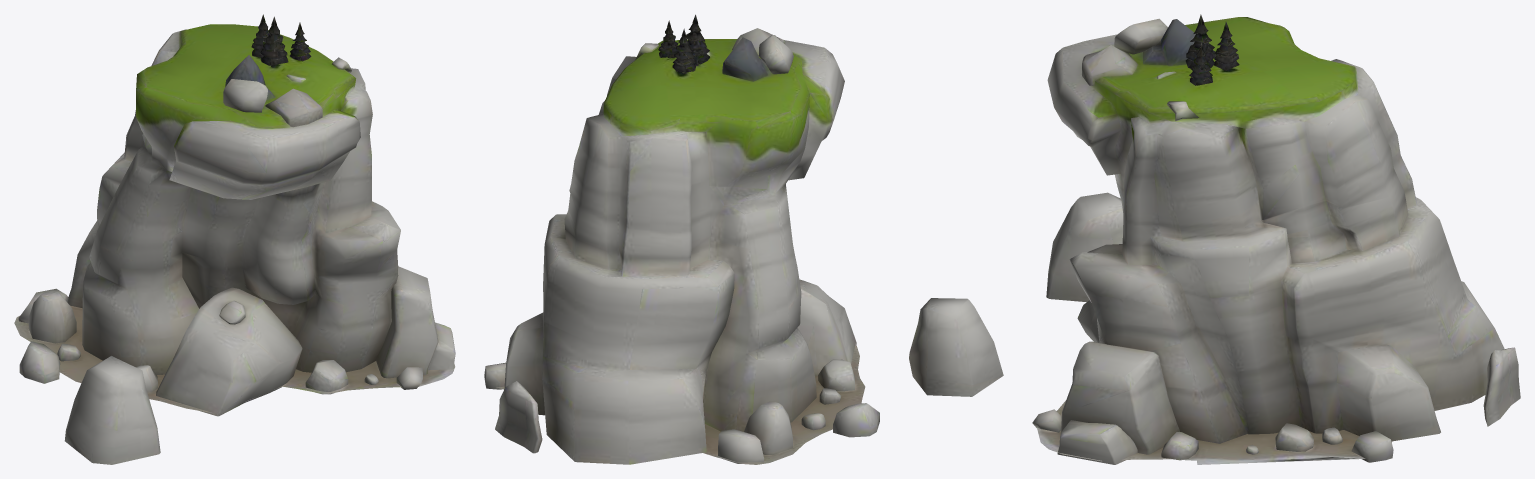
Rendered from rock_a.glb.
3 views of the same model, side by side, from view 1: azimuth 30°, elevation 25°; view 2: azimuth 150°, elevation 25°; view 3: azimuth 270°, elevation 25° (orthographic). The views are drawn at different scales.
Visible parts, largest first — view 1: tripo_node_07d824cd-c94b-407a-b72c-12f45f7a893f; view 2: tripo_node_07d824cd-c94b-407a-b72c-12f45f7a893f; view 3: tripo_node_07d824cd-c94b-407a-b72c-12f45f7a893f.
Part boxes in pixels (x1,y1,x2,y2): tripo_node_07d824cd-c94b-407a-b72c-12f45f7a893f: (14,14,455,464); tripo_node_07d824cd-c94b-407a-b72c-12f45f7a893f: (484,14,1003,464); tripo_node_07d824cd-c94b-407a-b72c-12f45f7a893f: (1032,14,1520,464).
Bounding box in the file's own units: 20.08 × 17.35 × 20.
1 material, 1 textured.
